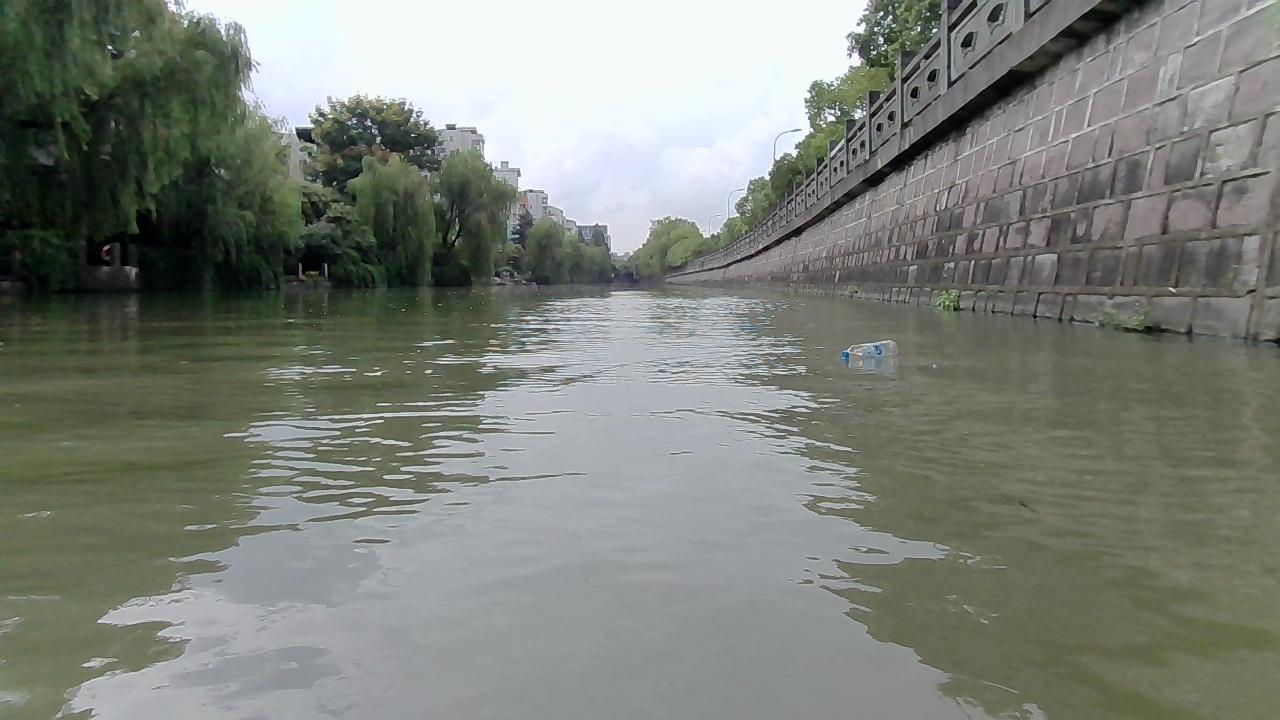bottle: (839, 337, 899, 358)
